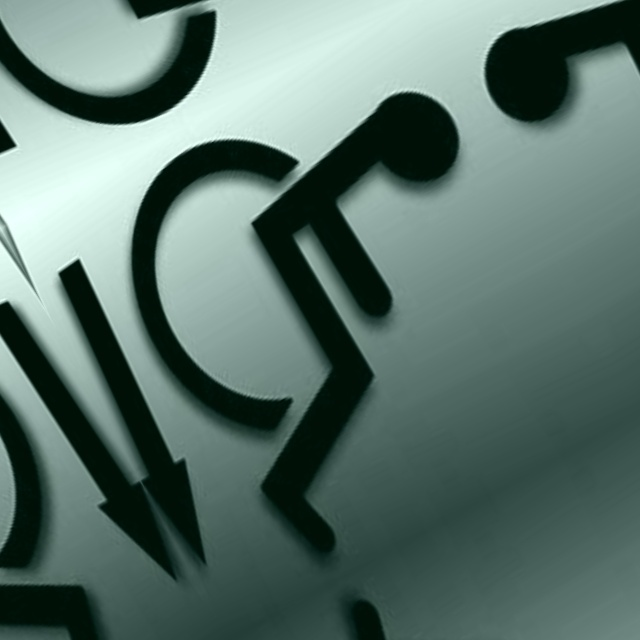ISA: (50, 0, 640, 612), (412, 0, 640, 412), (278, 412, 640, 640), (0, 0, 412, 200), (0, 256, 177, 640)
